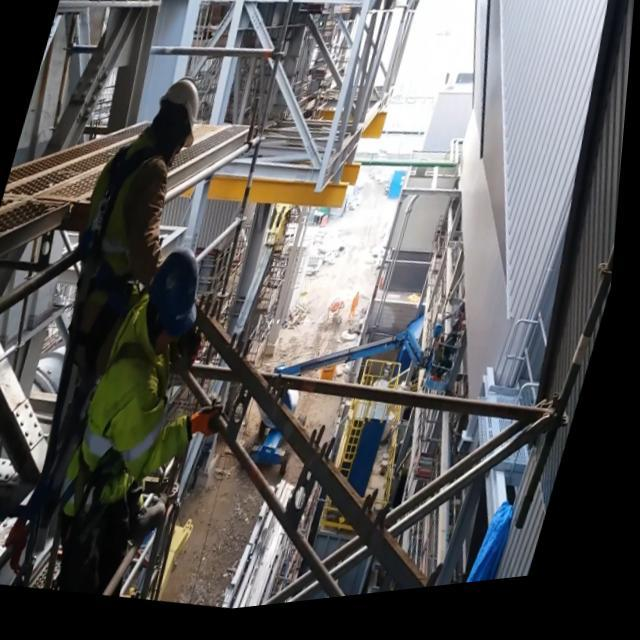belt: (50, 129, 188, 385), (53, 320, 182, 559)
